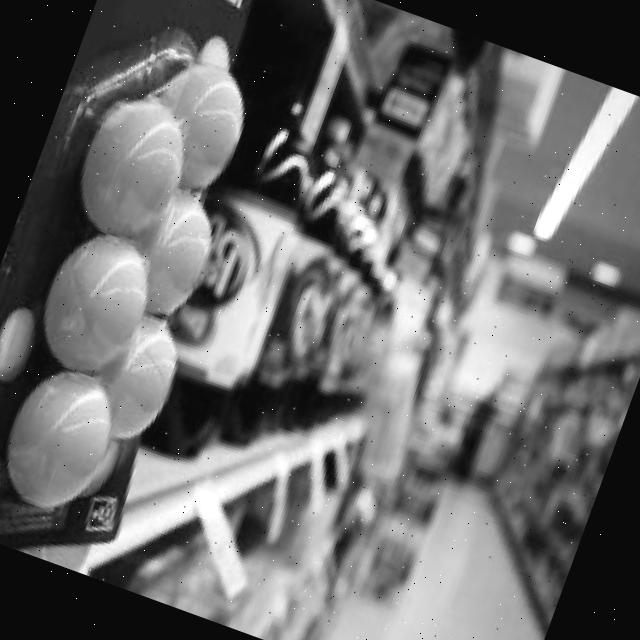ping-pong-ball: (24, 222, 163, 384), (0, 356, 127, 522), (68, 86, 200, 244), (90, 172, 226, 321), (64, 296, 190, 446), (135, 48, 256, 196)
